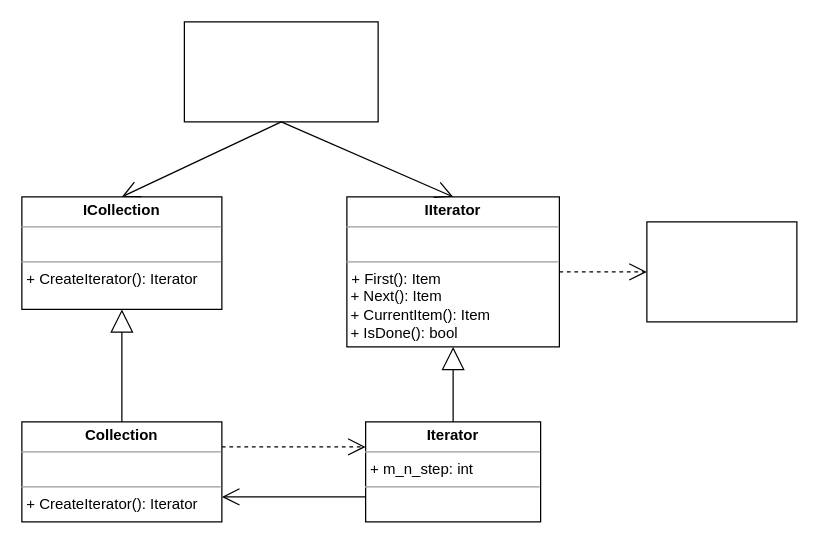
Image size: 819x544. Some labels were removed from this diagram. The shapes that lost their labels are listed below. From the top down, each one's centre as x and y in pixels, then its label:
(280,71): Program
(721,271): Item - m_name: string
